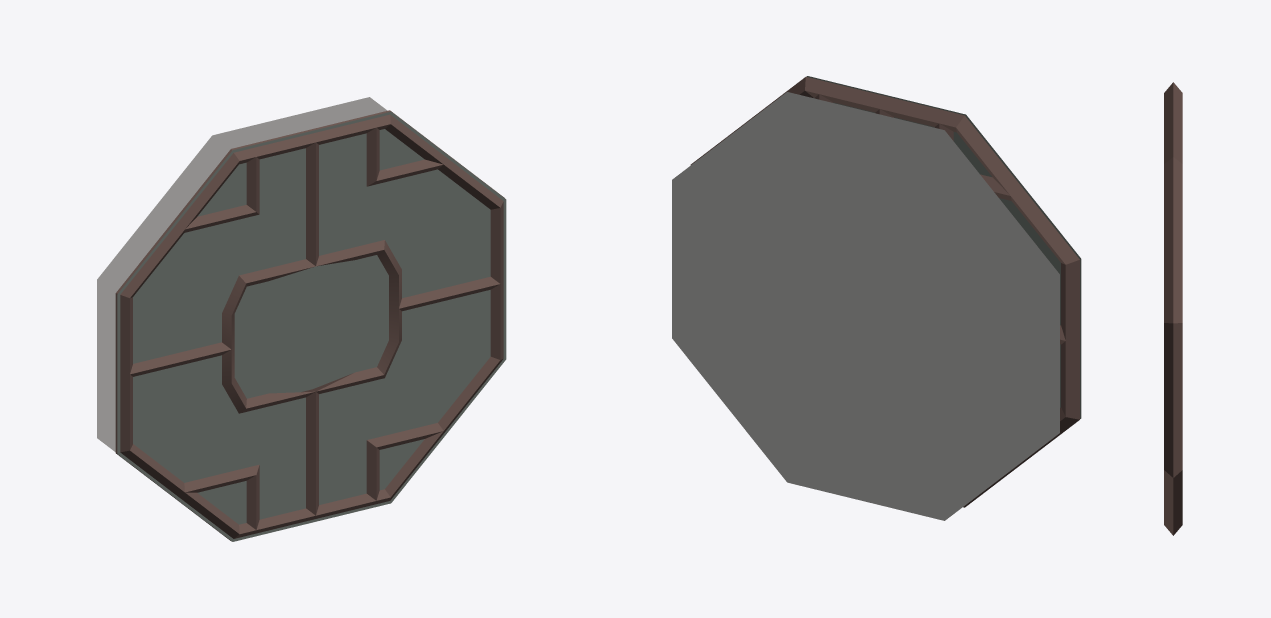
File: SM_Env_Window_04.fbx
The picture shows the model from 3 angles, left to right: view 1: azimuth 30°, elevation 25°; view 2: azimuth 150°, elevation 25°; view 3: azimuth 270°, elevation 25°; orthographic projection. The views are drawn at different scales.
Parts seen in each view (by area): view 1: SM_Env_Window_04; view 2: SM_Env_Window_04; view 3: SM_Env_Window_04.
Part boxes in pixels (x1,y1,x2,y2): SM_Env_Window_04: [97, 97, 506, 541]; SM_Env_Window_04: [672, 76, 1081, 520]; SM_Env_Window_04: [1164, 82, 1182, 535].
Size of the model in its own units: 99.03 by 95.33 by 16.28.
Materials: 1 (1 with a texture image).
